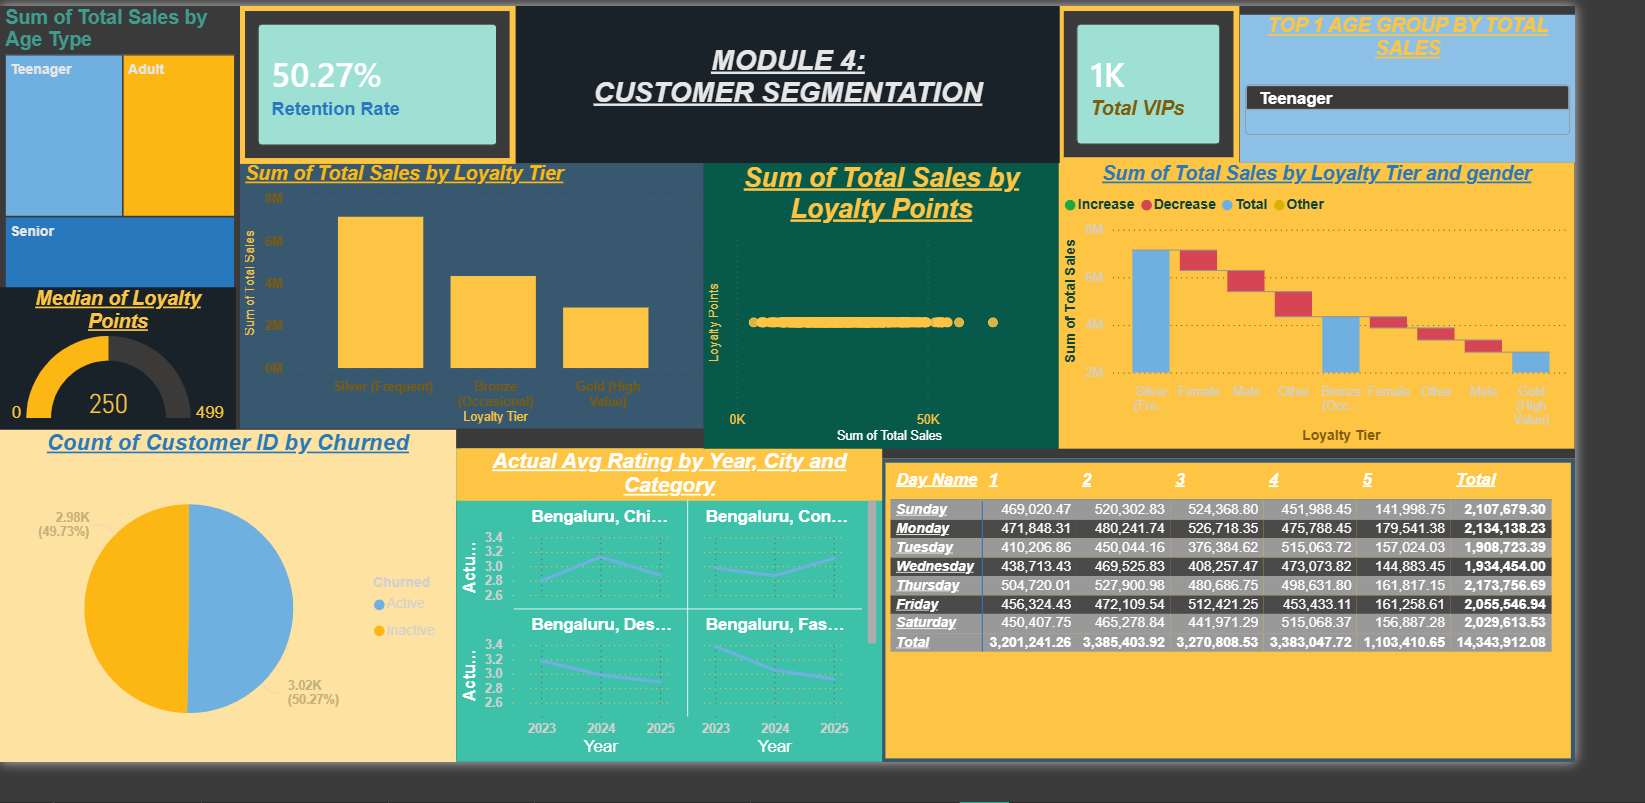

What the dashboard file says about the page in this screenshot:
{"tool":"powerbi","page":{"name":"Customer Segmentation","canvas":[1500,720],"ordinal":3},"visuals":[{"type":"pieChart","fields":{"Category":["Foodpanda Analysis Dataset.Churned"],"Y":["Count(Foodpanda Analysis Dataset.Customer ID)"]},"box":[0,403,434.1,317.2],"z":0},{"type":"treemap","fields":{"Group":["Foodpanda Analysis Dataset.Age Type","Foodpanda Analysis Dataset.gender"],"Values":["Sum(Foodpanda Analysis Dataset.Total Sales)"]},"box":[0,0,228.9,279.9],"z":1000},{"type":"clusteredColumnChart","fields":{"Category":["Foodpanda Analysis Dataset.Loyalty Tier"],"Y":["Sum(Foodpanda Analysis Dataset.Total Sales)"]},"box":[228.9,149.3,441.6,253.8],"z":2000},{"type":"pivotTable","fields":{"Columns":["Foodpanda Analysis Dataset.Week of Month"],"Rows":["Foodpanda Analysis Dataset.Day Name"],"Values":["Sum(Foodpanda Analysis Dataset.Total Sales)"]},"box":[839.7,430.4,660.5,289.8],"z":3000},{"type":"lineChart","fields":{"Category":["Foodpanda Analysis Dataset.Order Date.Variation.Date Hierarchy.Year","Foodpanda Analysis Dataset.Order Date.Variation.Date Hierarchy.Quarter","Foodpanda Analysis Dataset.Order Date.Variation.Date Hierarchy.Month","Foodpanda Analysis Dataset.Order Date.Variation.Date Hierarchy.Day"],"Rows":["Foodpanda Analysis Dataset.City","Foodpanda Analysis Dataset.Category"],"Y":["Foodpanda Analysis Dataset.Actual Avg Rating"]},"box":[434.1,421.7,405.5,298.6],"z":4000},{"type":"scatterChart","fields":{"Category":["Foodpanda Analysis Dataset.Loyalty Points"],"X":["Sum(Foodpanda Analysis Dataset.Total Sales)"]},"box":[670.5,149.3,338.4,272.4],"z":5000},{"type":"waterfallChart","fields":{"Breakdown":["Foodpanda Analysis Dataset.gender"],"Category":["Foodpanda Analysis Dataset.Loyalty Tier"],"Y":["Sum(Foodpanda Analysis Dataset.Total Sales)"]},"box":[1008.9,149.3,491.4,272.4],"z":6000},{"type":"cardVisual","fields":{"Data":["Foodpanda Analysis Dataset.Total VIPs"]},"box":[1008.9,0,171.7,149.3],"z":7000},{"type":"cardVisual","fields":{"Data":["Foodpanda Analysis Dataset.Retention Rate"]},"box":[228.9,0,262.5,150.5],"z":8000},{"type":"cardVisual","title":"TOP 1 AGE GROUP BY TOTAL SALES","fields":{"Rows":["Foodpanda Analysis Dataset.Age Type"]},"box":[1180.5,8.7,319.7,140.6],"z":9000},{"type":"textbox","box":[491.4,0,517.5,149.3],"z":9001},{"type":"gauge","fields":{"Y":["Median(Foodpanda Analysis Dataset.Loyalty Points)"]},"box":[0,268.3,224.7,134.8],"z":9002}]}

Visuals, with their boxes in screenshot pixels (x1, y1, x2, y2), scaled from the page's 1500x720 canvas onto the 1645x803 screenshot:
pieChart - Foodpanda Analysis Dataset.Churned x Count(Foodpanda Analysis Dataset.Customer ID): [x1=0, y1=449, x2=476, y2=802]
treemap - Foodpanda Analysis Dataset.Age Type x Foodpanda Analysis Dataset.gender: [x1=0, y1=0, x2=251, y2=312]
clusteredColumnChart - Foodpanda Analysis Dataset.Loyalty Tier x Sum(Foodpanda Analysis Dataset.Total Sales): [x1=251, y1=167, x2=735, y2=450]
pivotTable - Foodpanda Analysis Dataset.Week of Month x Foodpanda Analysis Dataset.Day Name: [x1=921, y1=480, x2=1644, y2=802]
lineChart - Foodpanda Analysis Dataset.Order Date.Variation.Date Hierarchy.Year x Foodpanda Analysis Dataset.Order Date.Variation.Date Hierarchy.Quarter: [x1=476, y1=470, x2=921, y2=802]
scatterChart - Foodpanda Analysis Dataset.Loyalty Points x Sum(Foodpanda Analysis Dataset.Total Sales): [x1=735, y1=167, x2=1106, y2=470]
waterfallChart - Foodpanda Analysis Dataset.gender x Foodpanda Analysis Dataset.Loyalty Tier: [x1=1106, y1=167, x2=1644, y2=470]
cardVisual - Foodpanda Analysis Dataset.Total VIPs: [x1=1106, y1=0, x2=1295, y2=167]
cardVisual - Foodpanda Analysis Dataset.Retention Rate: [x1=251, y1=0, x2=539, y2=168]
"TOP 1 AGE GROUP BY TOTAL SALES" cardVisual: [x1=1295, y1=10, x2=1644, y2=167]
textbox: [x1=539, y1=0, x2=1106, y2=167]
gauge - Median(Foodpanda Analysis Dataset.Loyalty Points): [x1=0, y1=299, x2=246, y2=450]
